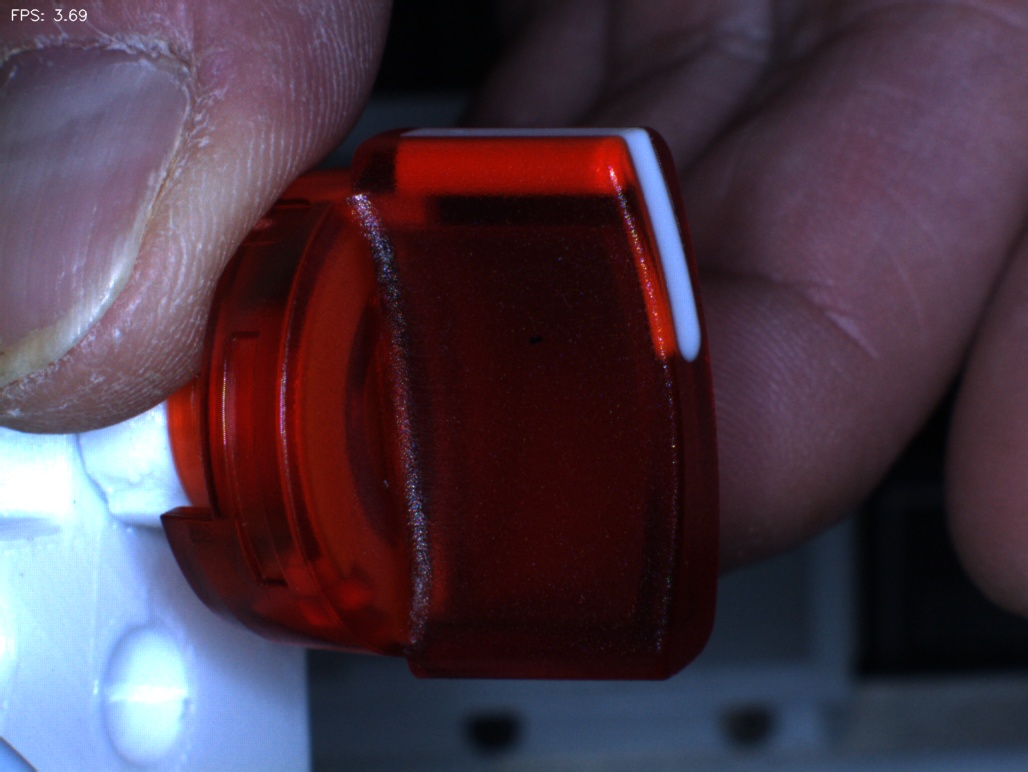PointNoir: (496, 300, 570, 370)
